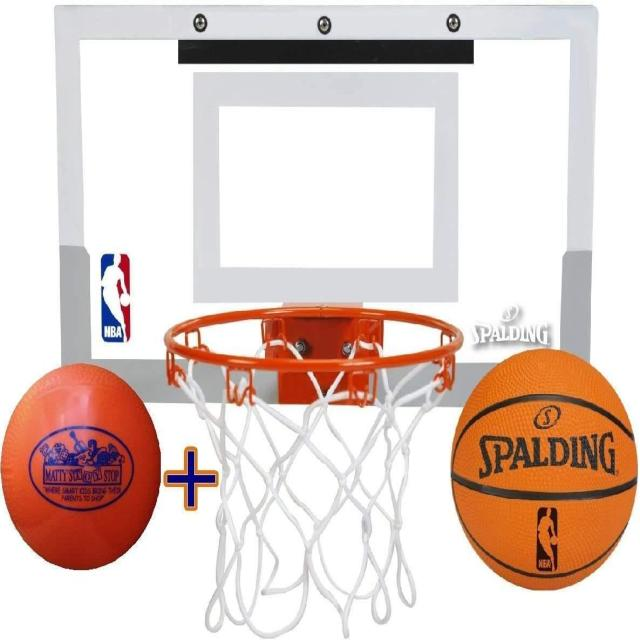basketball: (451, 347, 637, 590), (2, 355, 169, 580)
hoop: (161, 310, 459, 628)
